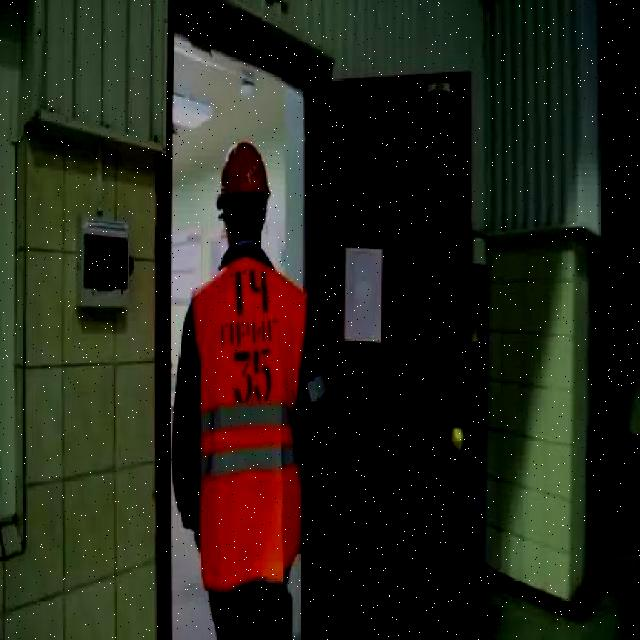Helmet: (217, 140, 271, 205)
Mask: (192, 255, 310, 592)
